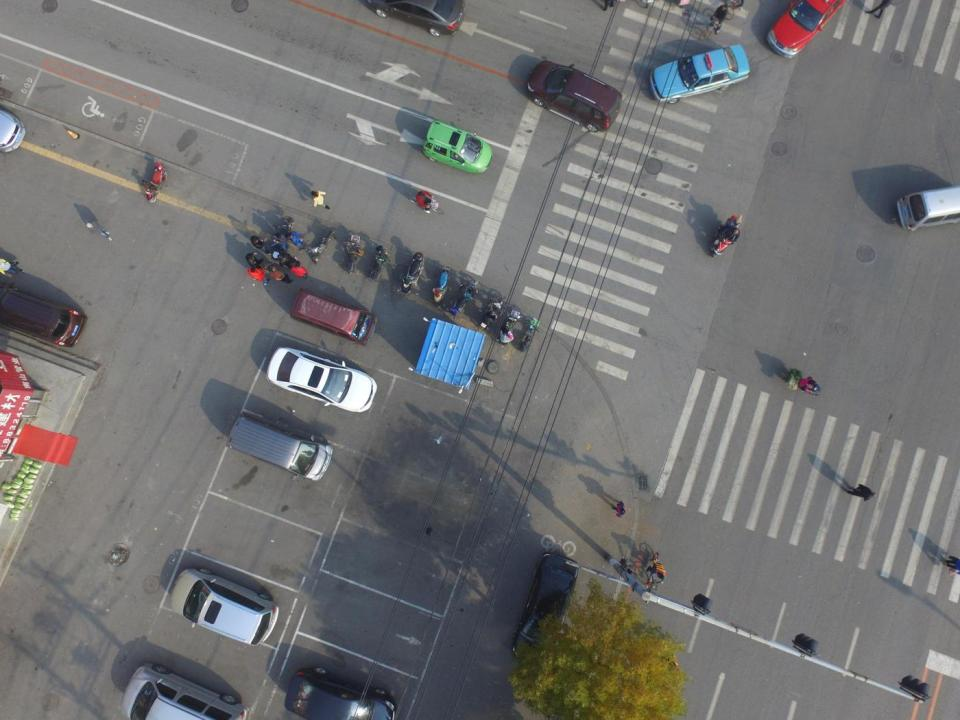car: (511, 551, 579, 669), (266, 346, 378, 413), (649, 44, 750, 103), (285, 668, 395, 720), (765, 0, 848, 58), (422, 120, 493, 174), (366, 0, 466, 37)
van: (170, 566, 279, 646), (119, 662, 249, 720), (226, 411, 332, 482), (526, 60, 622, 132), (0, 283, 88, 348), (289, 288, 378, 346), (895, 185, 960, 232)
